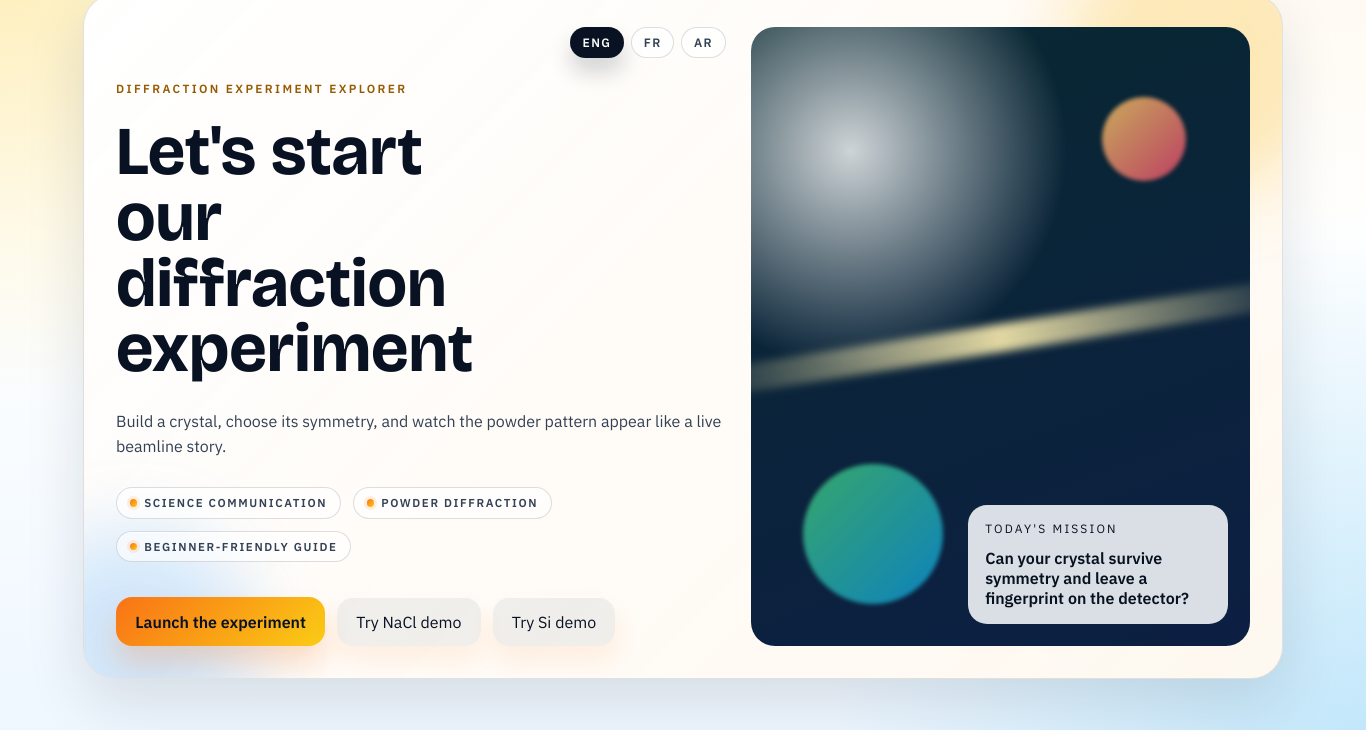
Test: ExperimentExplorer › clamps oversized lattice values before they can freeze the live simulation
The image size is (1366, 730).
Click the button "Try NaCl demo". click: (409, 622)
box: [337,597,481,646]
(page scrolled)
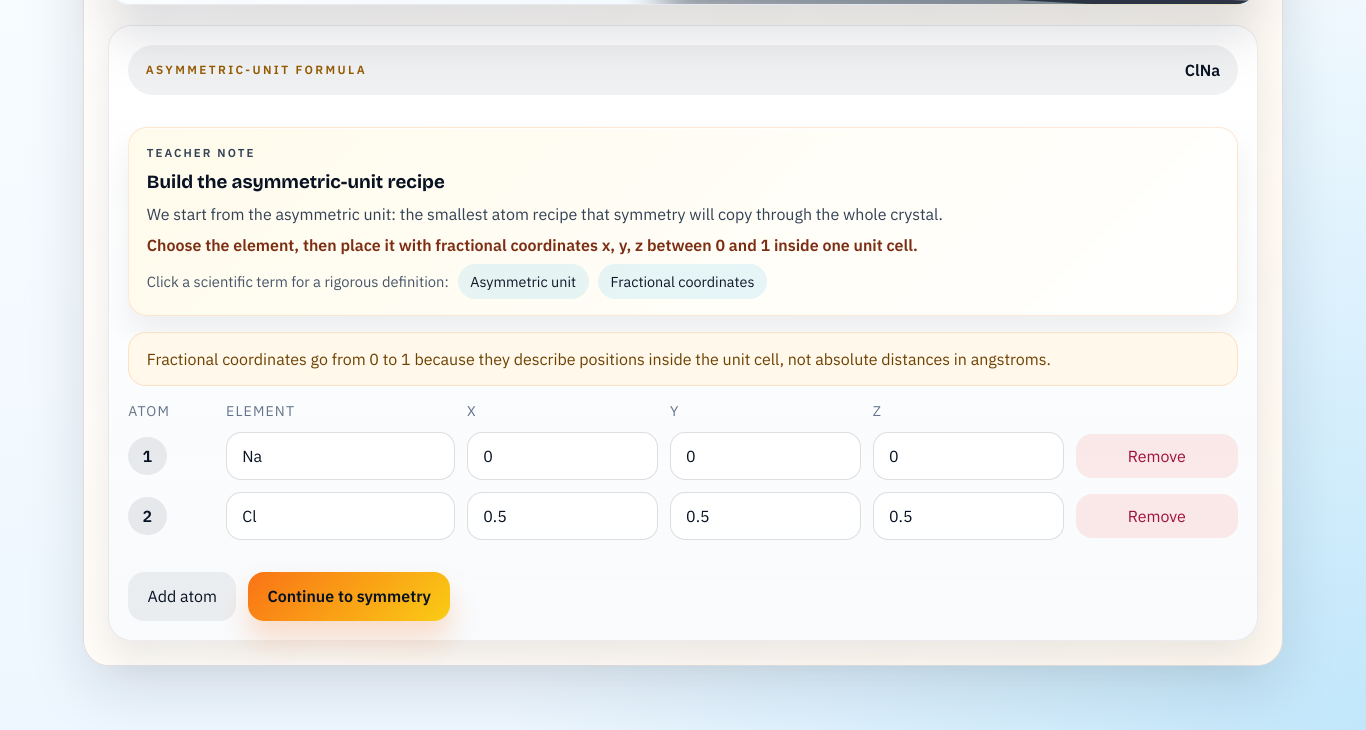
Click the button "Continue to symmetry". click: (349, 596)
box: [248,572,450,621]
(page scrolled)
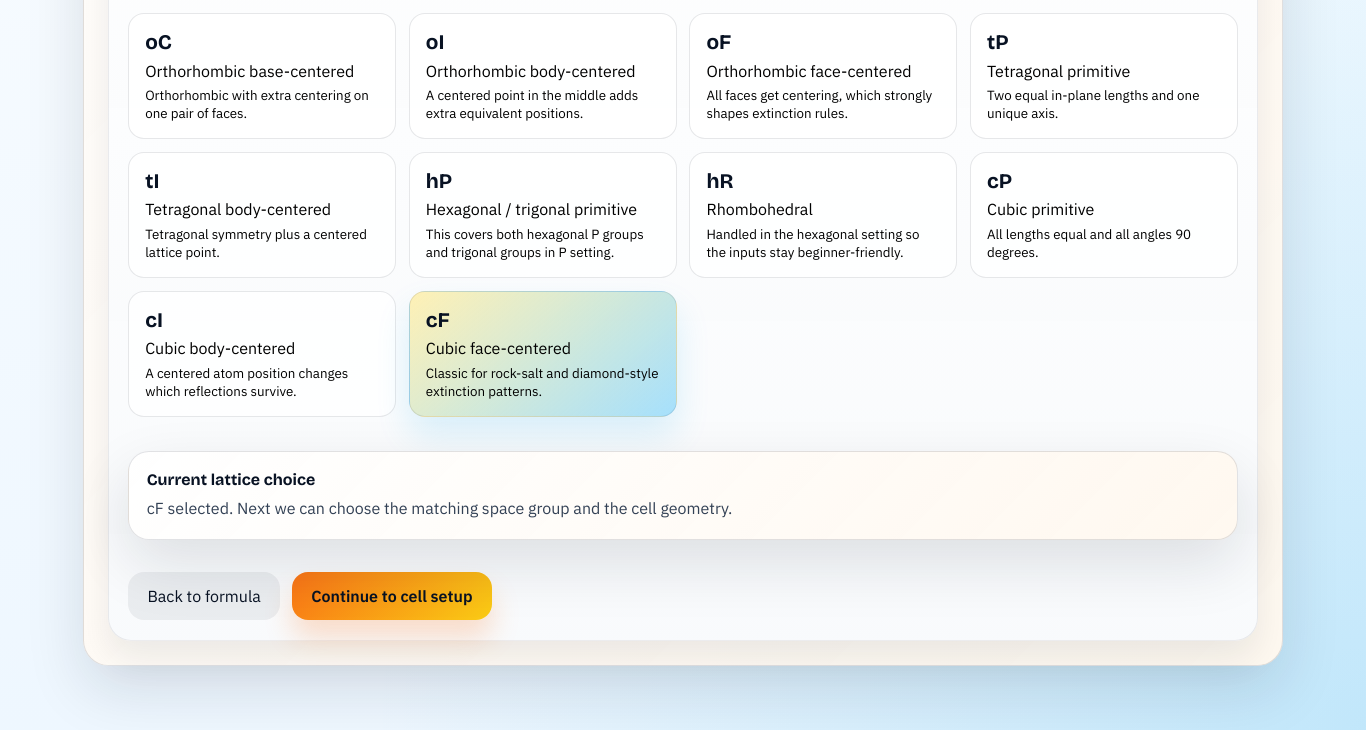
Click the button "Continue to cell setup". click: (392, 596)
box: [292,572,492,620]
(page scrolled)
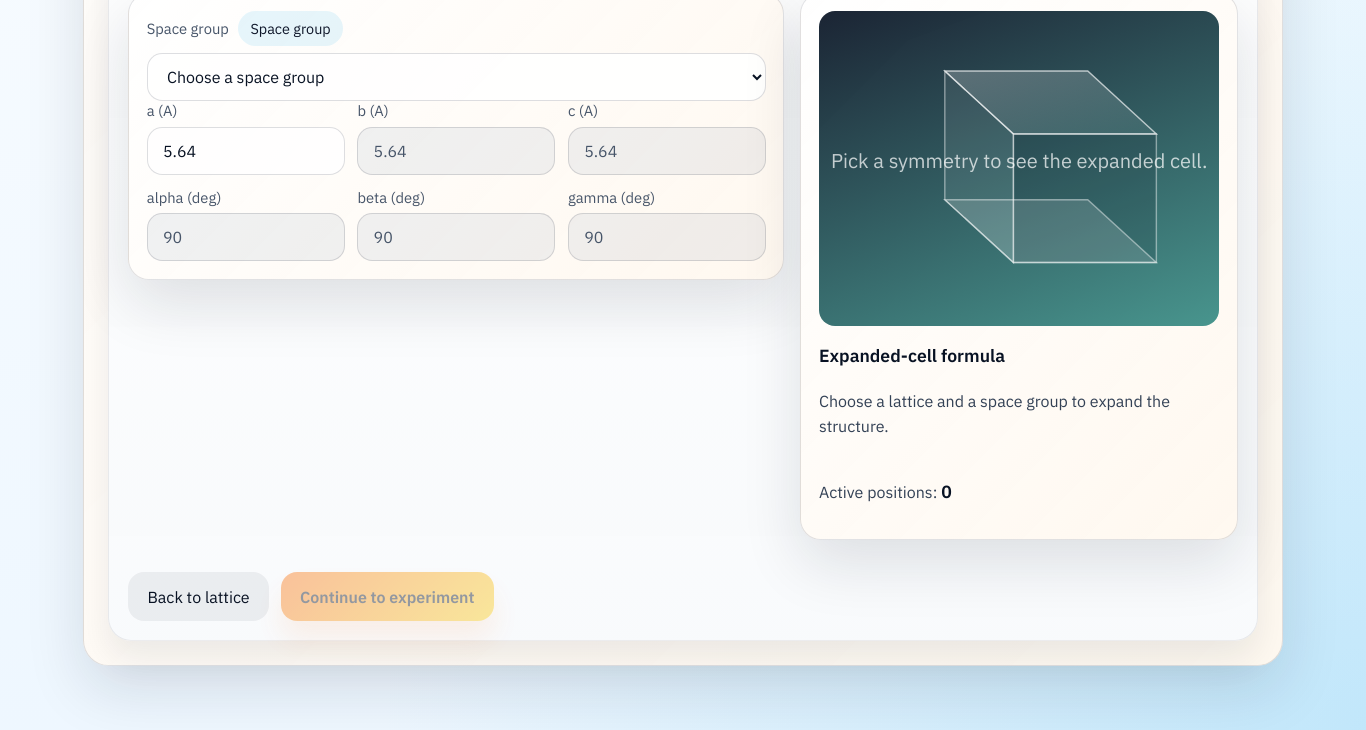
Replace the text in the number field labelled "a (A)" with "70". click: (246, 151)
box: [147,127,345,175]
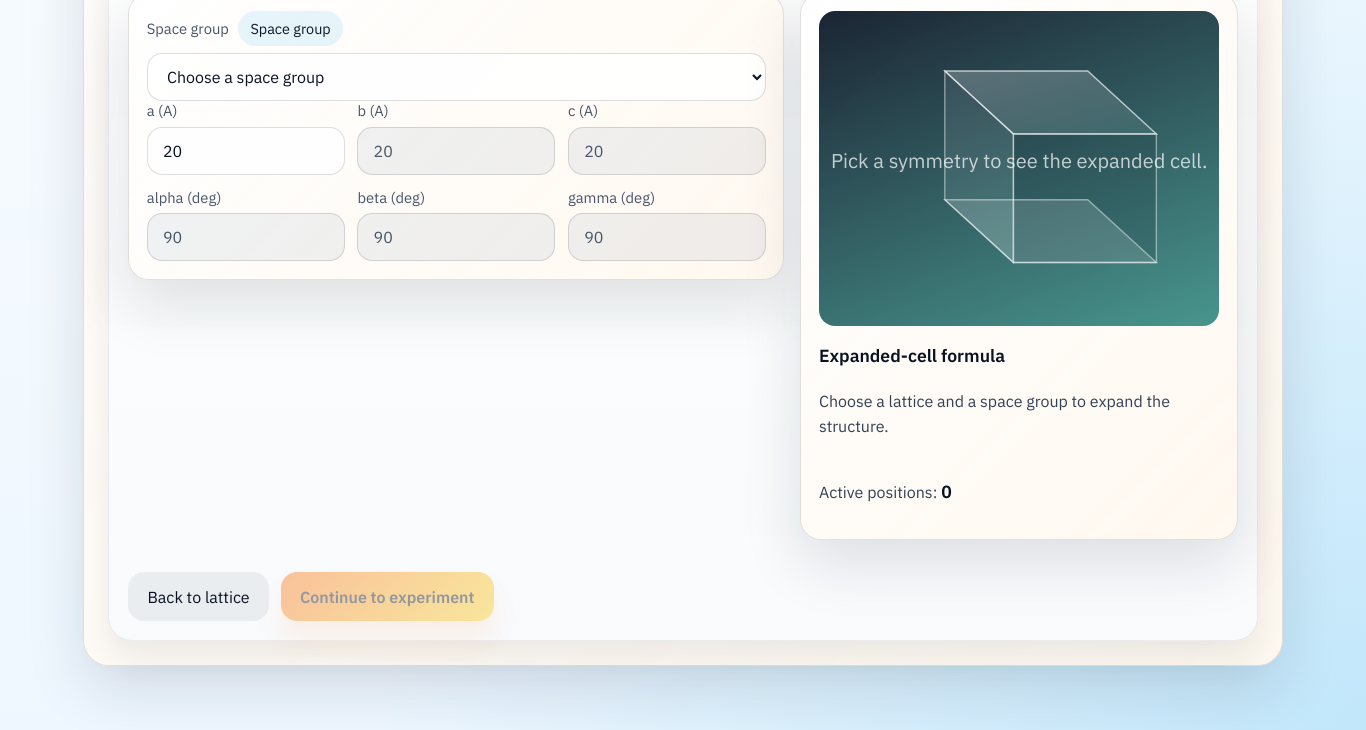
expect the number field labelled "a (A)" holds "20": met, box [147,127,345,175]
